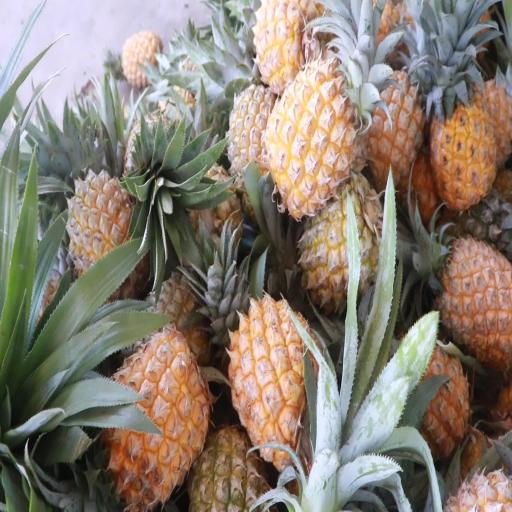------------------------------: (299, 186, 384, 307)
Pineapple - v8 v1: (89, 340, 206, 502), (226, 304, 316, 470), (273, 66, 359, 215), (386, 338, 468, 463), (423, 240, 512, 355), (361, 63, 427, 184), (432, 92, 497, 208), (256, 0, 324, 87)
